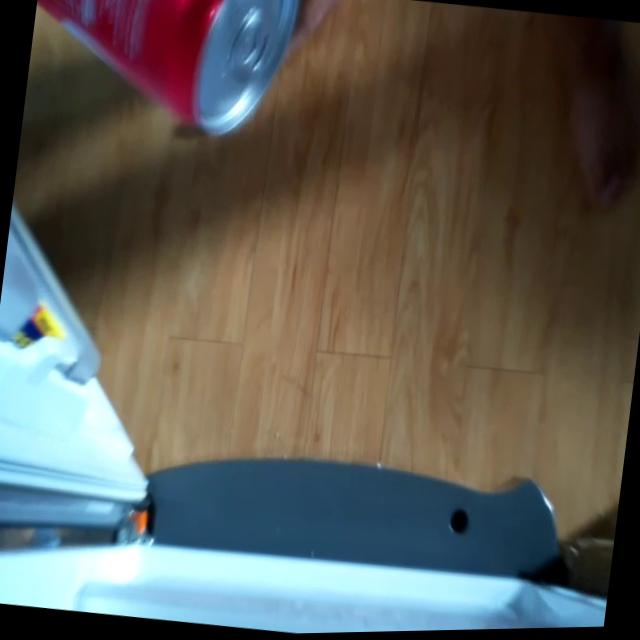coke: (24, 0, 299, 148)
